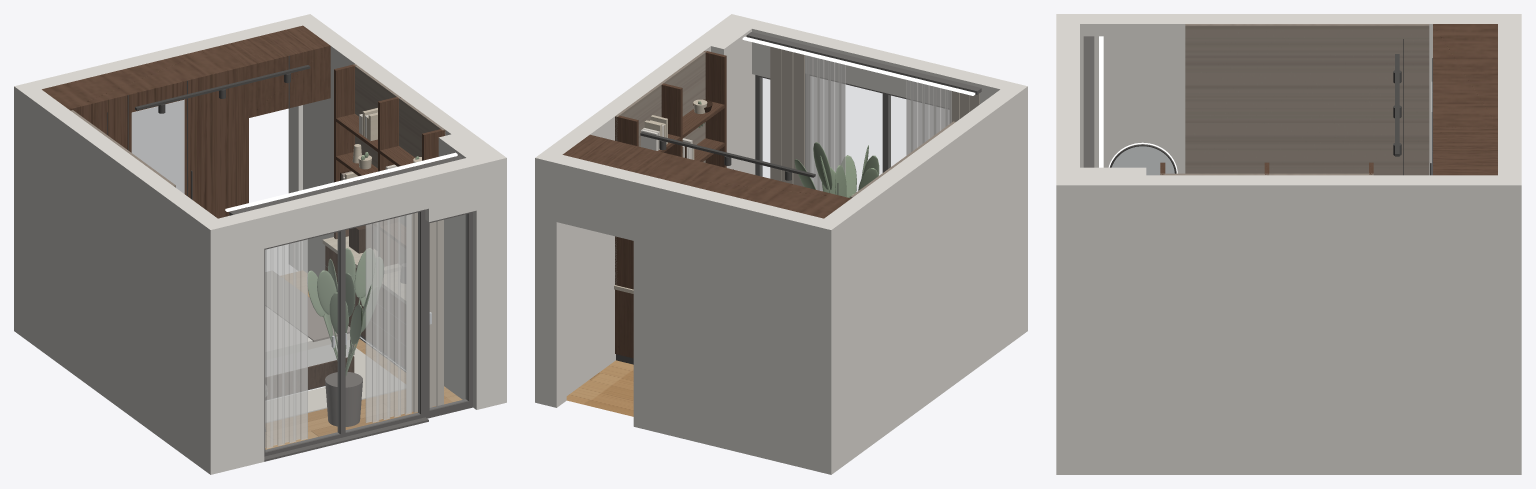
The model's file is spalnya.glb.
3 views of the same model, side by side, from view 1: azimuth 30°, elevation 25°; view 2: azimuth 150°, elevation 25°; view 3: azimuth 270°, elevation 25° (orthographic). The views are drawn at different scales.
Size of the model in its own units: 3.42 by 2.7 by 3.93.
34 materials, 5 textured.
